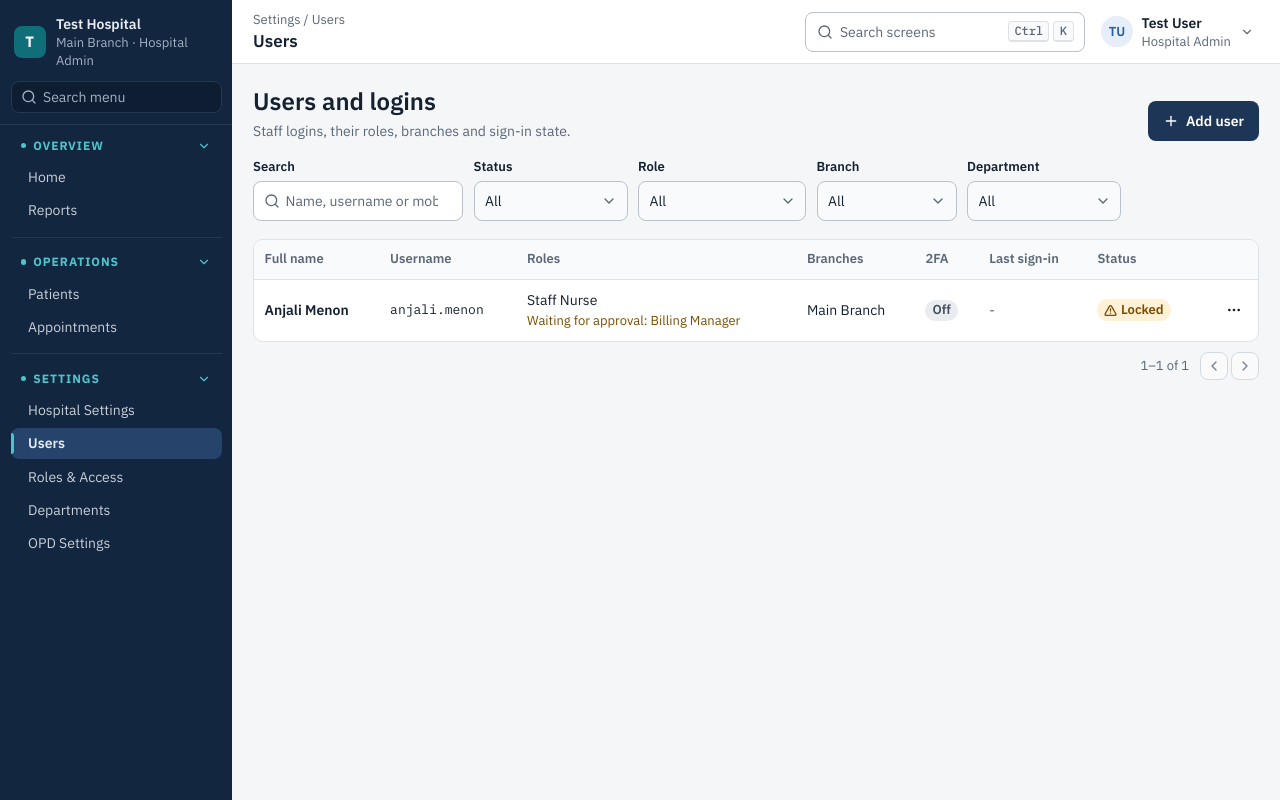
Test: Users › resets a password with a policy-compliant temporary password
Click the button named "Actions for Anjali Menon" at (1234, 310), box top-left (1220, 296), bottom-right (1248, 324)
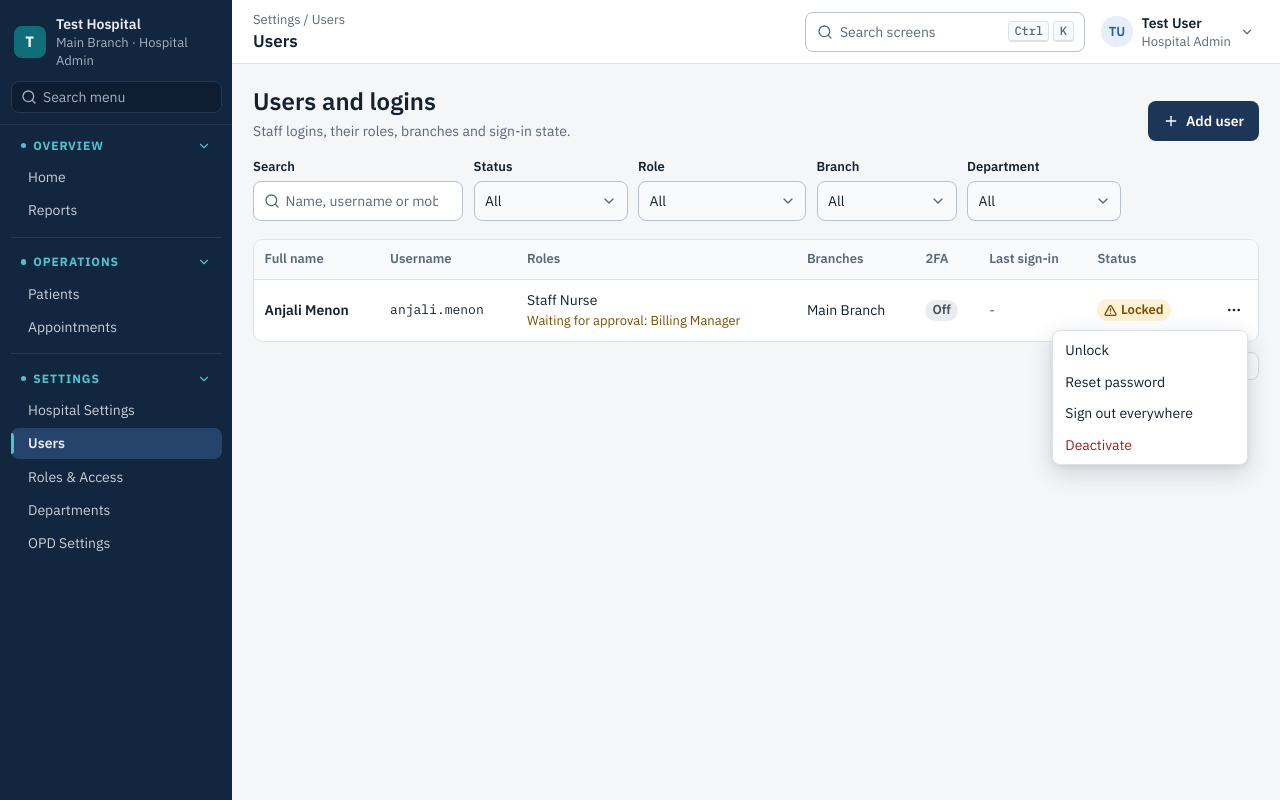
Click the menu item "Reset password" at (1115, 382), box top-left (1065, 373), bottom-right (1165, 391)
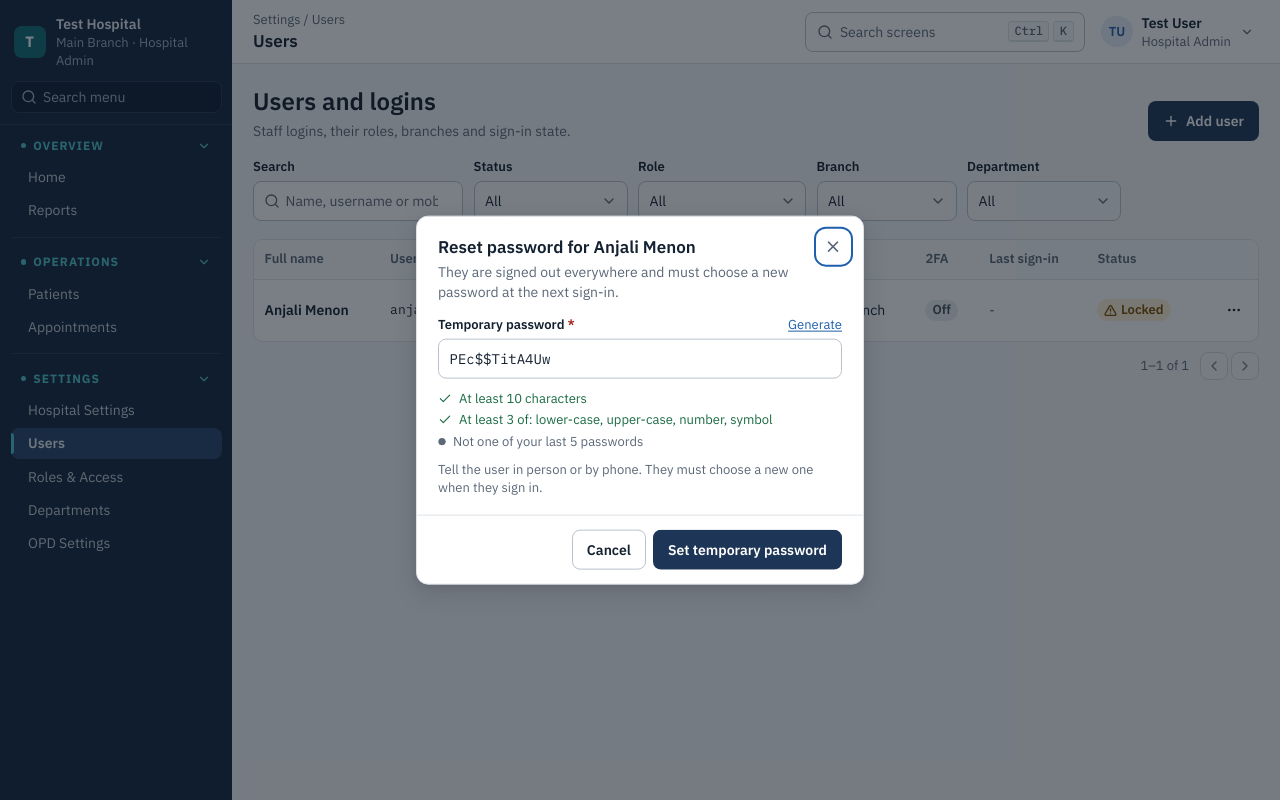
Replace the text in the field labelled "Temporary password" with "weak" at (640, 359), box top-left (438, 339), bottom-right (842, 379)
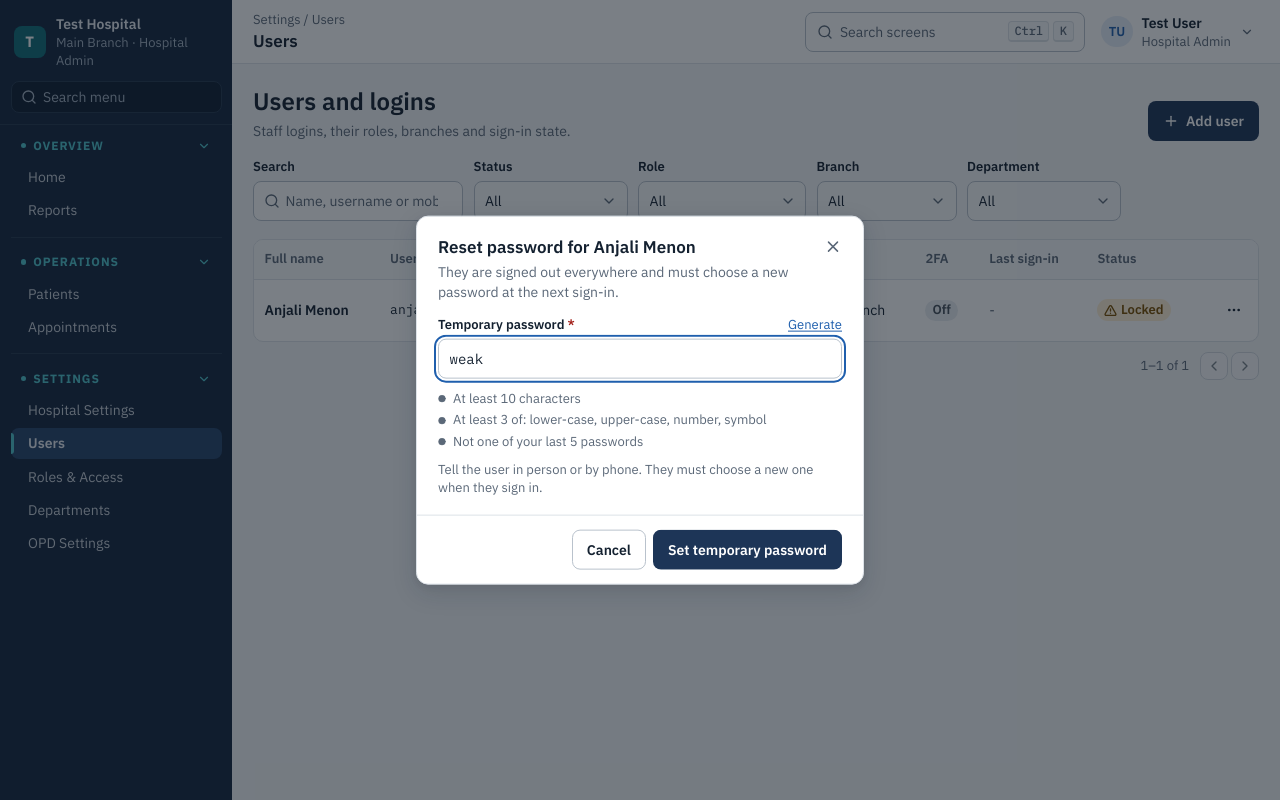
Click the button "Set temporary password" at (747, 549), box top-left (653, 529), bottom-right (842, 569)
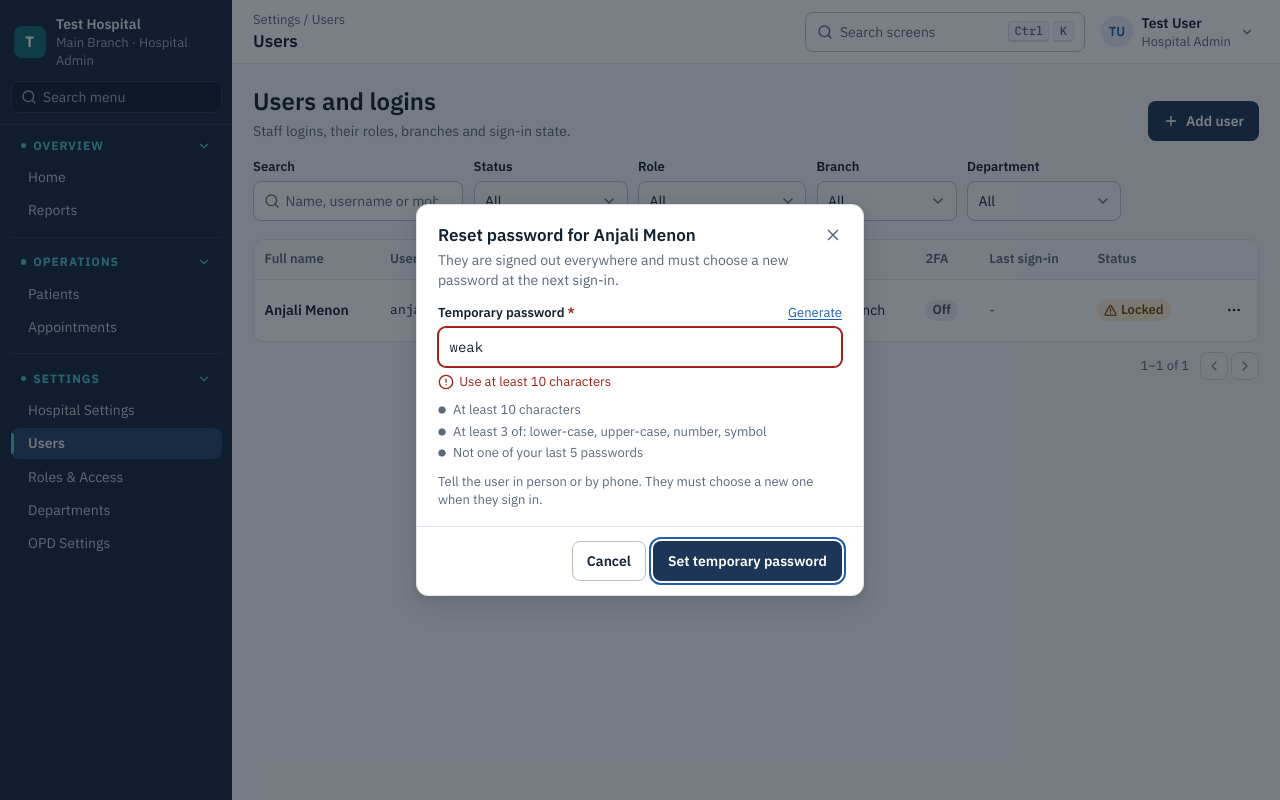
Check: the text "Use at least 10 characters" is shown, box top-left (459, 372), bottom-right (611, 390)
Click the button "Generate" at (815, 313), box top-left (788, 304), bottom-right (842, 322)
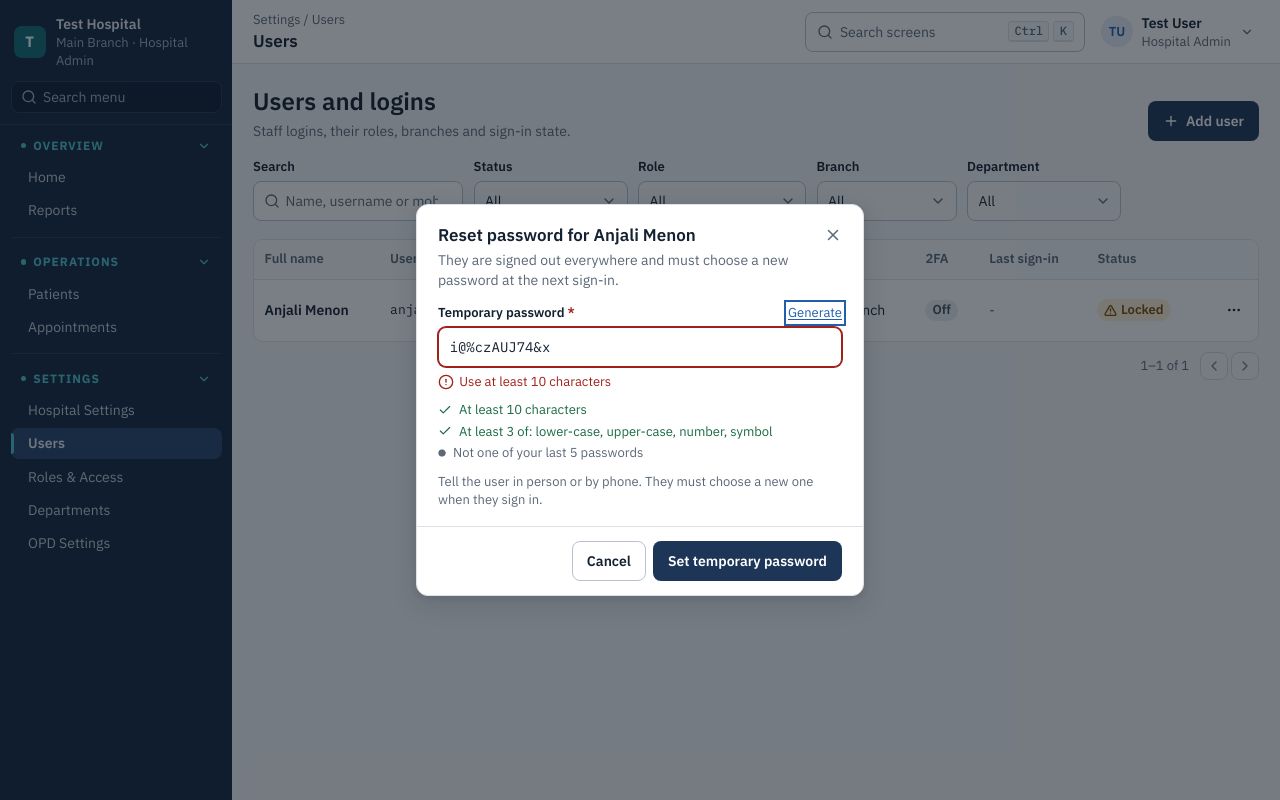
Click the button "Set temporary password" at (747, 561), box top-left (653, 541), bottom-right (842, 581)
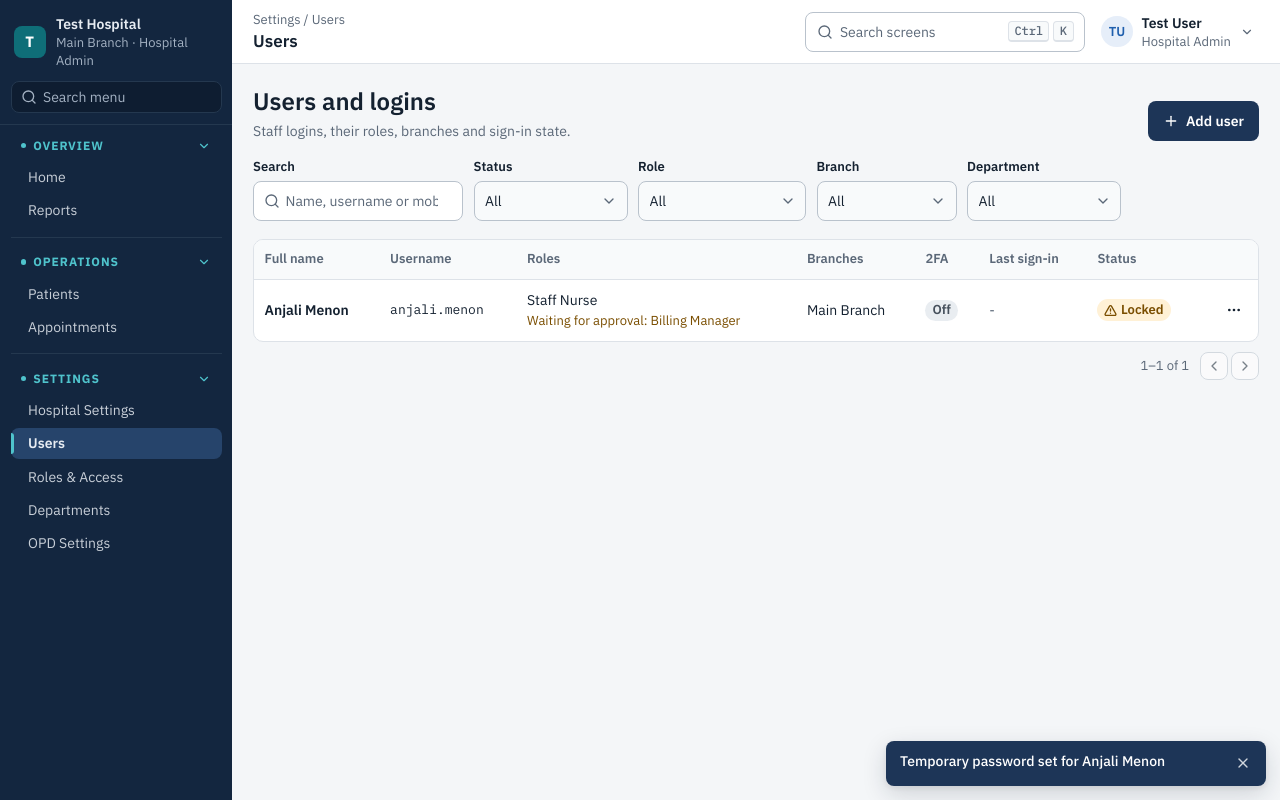
Check: the text "Temporary password set for Anjali Menon" is shown, box top-left (900, 752), bottom-right (1165, 770)
